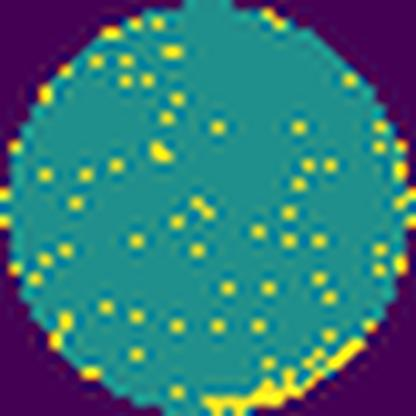Edge-Loc: (199, 335, 366, 415)
